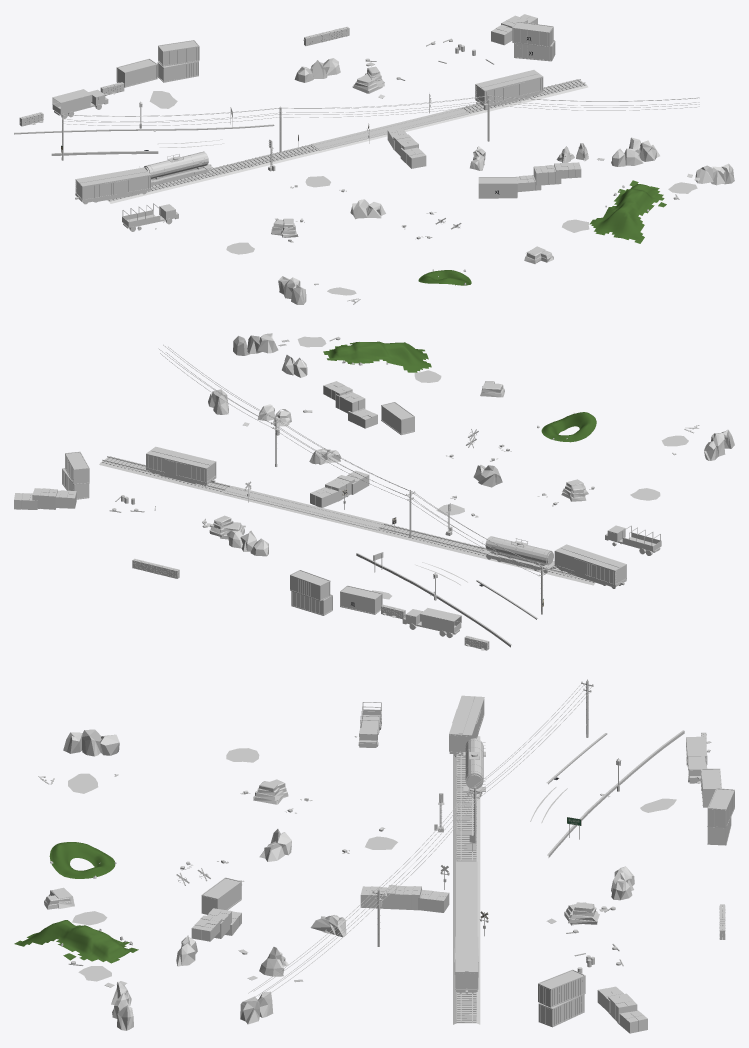
The model's file is outdoor_12.glb.
3 renders of one model, top to bottom at view 1: azimuth 30°, elevation 25°; view 2: azimuth 150°, elevation 25°; view 3: azimuth 270°, elevation 25°, orthographic. The views are drawn at different scales.
Visible parts, largest first — view 1: gas_station_town; view 2: gas_station_town; view 3: gas_station_town.
Part boxes in pixels (box(x1,y1,x2,y2)): gas_station_town: box(14, 14, 734, 304); gas_station_town: box(14, 333, 734, 650); gas_station_town: box(14, 679, 734, 1033).
Bounding box in the file's own units: 98.36 × 11.72 × 92.46.
4 materials, 3 textured.
